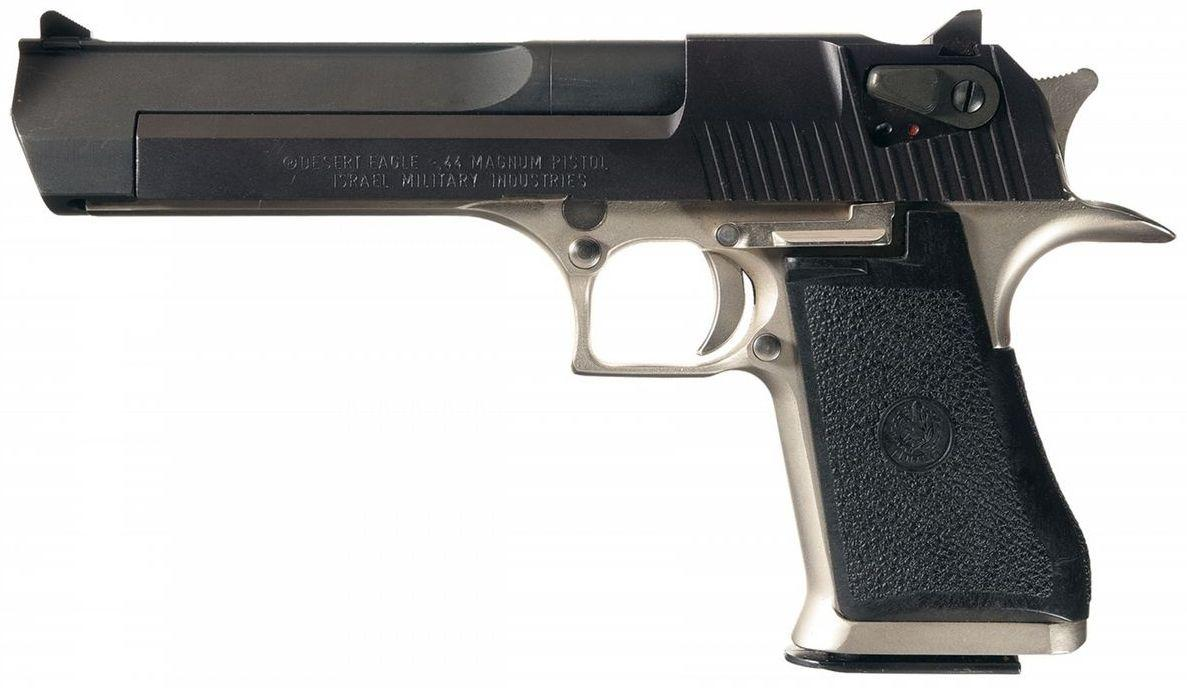gun: (0, 0, 1173, 689)
